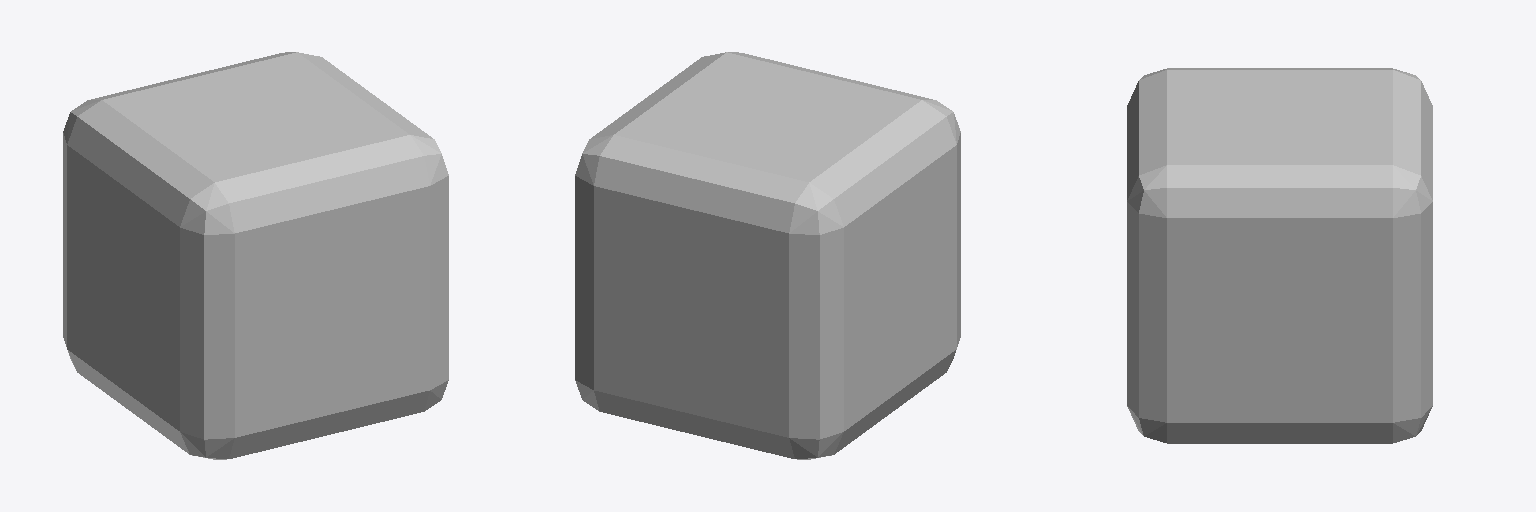
File: testungKloty.obj
3 views of the same model, side by side, from view 1: azimuth 30°, elevation 25°; view 2: azimuth 150°, elevation 25°; view 3: azimuth 270°, elevation 25° (orthographic).
Visible parts, largest first — view 1: Cube.002_Cube.004; view 2: Cube.002_Cube.004; view 3: Cube.002_Cube.004.
Boxes of the visible parts, <box> form: Cube.002_Cube.004: <box>63,52,448,459</box>; Cube.002_Cube.004: <box>575,52,960,459</box>; Cube.002_Cube.004: <box>1127,68,1432,443</box>.
Size of the model in its own units: 70.01 by 70.01 by 70.01.